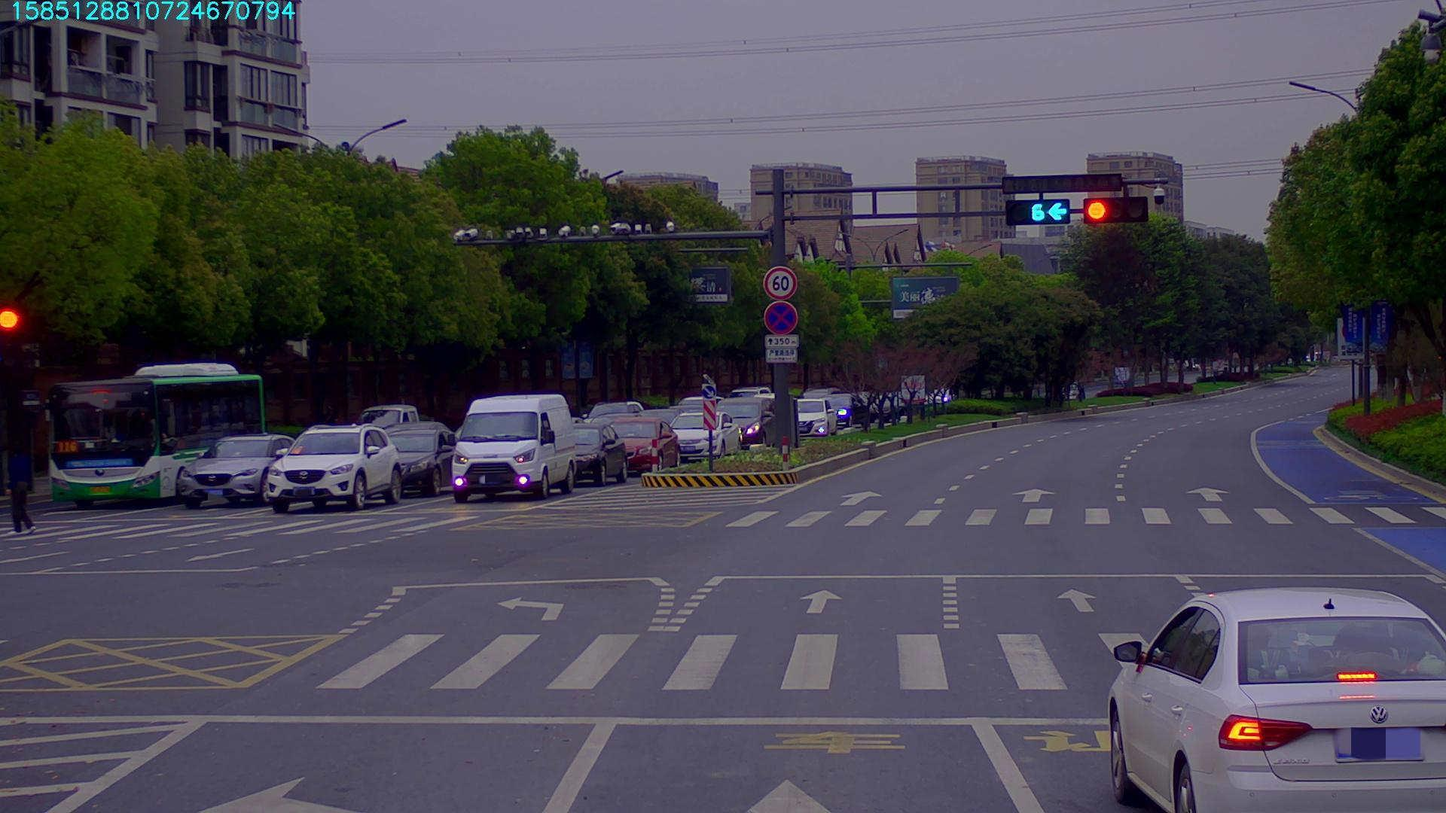green: (1005, 199, 1063, 224)
red: (1084, 197, 1147, 228)
